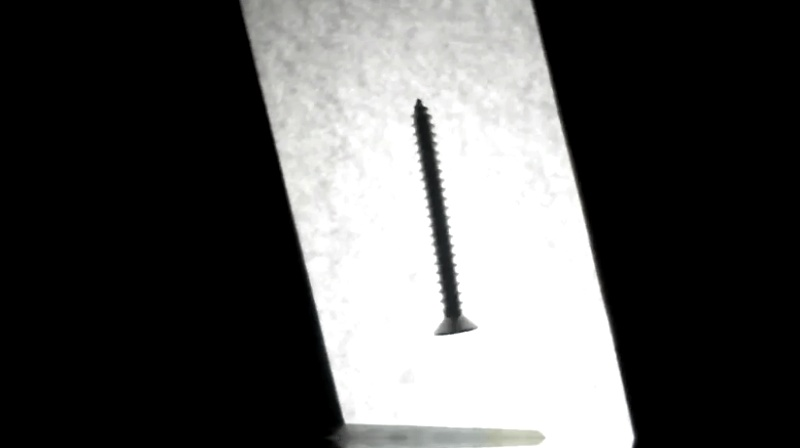S002: (410, 97, 481, 339)
